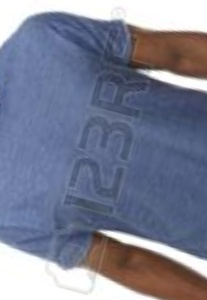arm: (1, 12, 207, 74), (3, 238, 207, 295)
chest: (1, 73, 207, 236)
